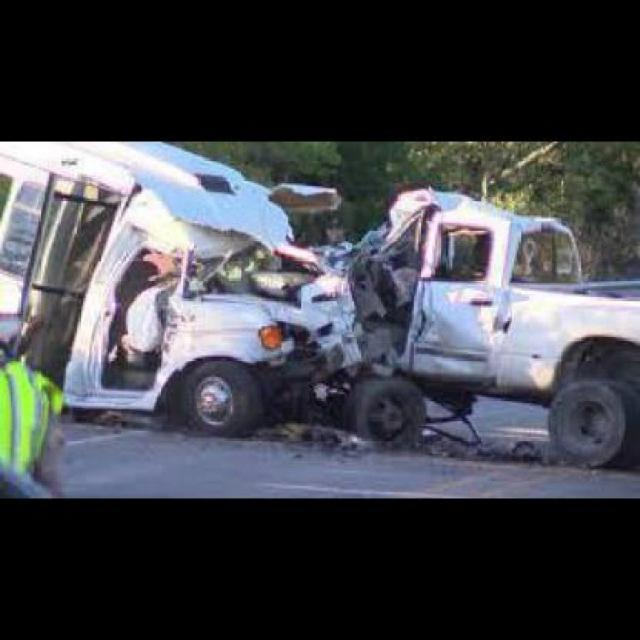accident: (4, 143, 636, 469)
